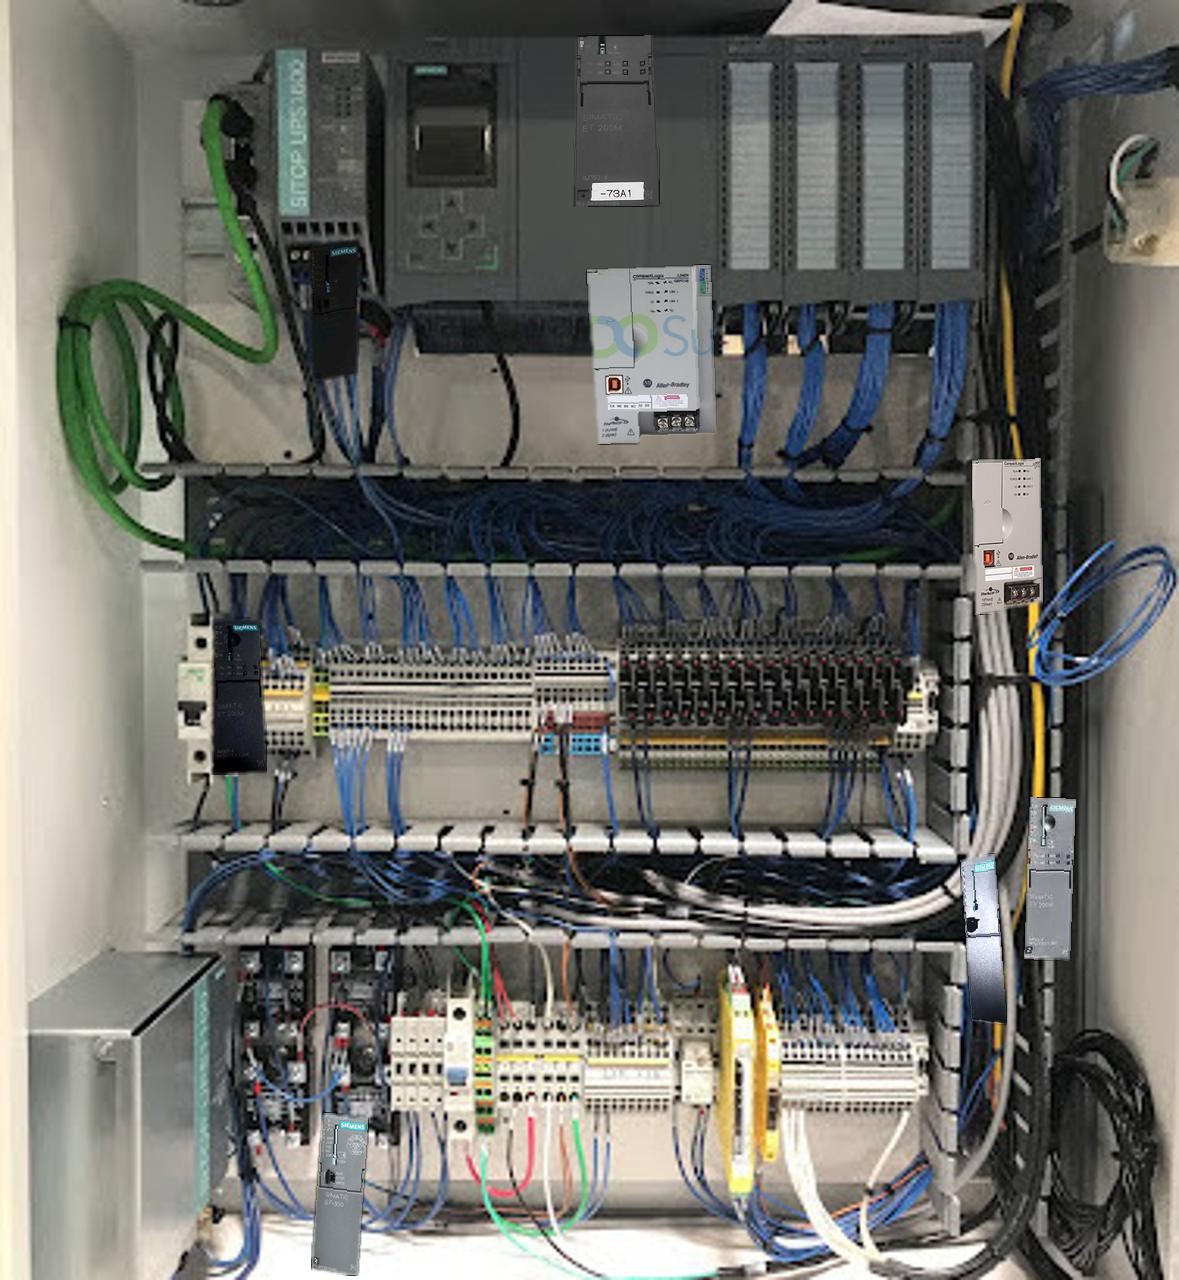AllenBradley: (587, 265, 714, 443), (972, 458, 1042, 614)
Siemens: (312, 1113, 367, 1274), (960, 854, 1006, 1024), (309, 239, 358, 380)
